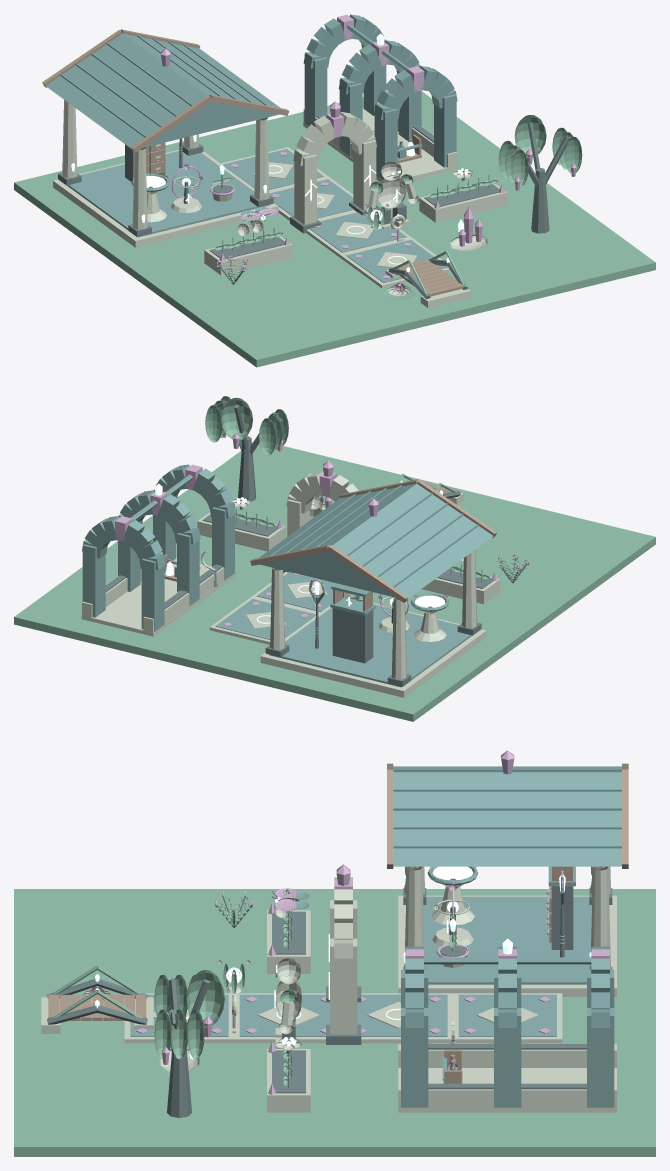
File: runestone-conservatory-starter-scene__124.glb
The picture shows the model from 3 angles, top to bottom: view 1: azimuth 30°, elevation 25°; view 2: azimuth 150°, elevation 25°; view 3: azimuth 270°, elevation 25°; orthographic projection. The views are drawn at different scales.
Visible parts, largest first — view 1: terrain-base, 01-runestone-conservatory-botanical-pavilion/1, 02-runestone-conservatory-growing-house/2, 01-runestone-conservatory-botanical-pavilion/0, 03-runestone-conservatory-runic-arch/0, 13-runestone-conservatory-crystal-willow/1, 01-runestone-conservatory-botanical-pavilion/4, 02-runestone-conservatory-growing-house/0, 13-runestone-conservatory-crystal-willow/0, 08-runestone-conservatory-mosaic-floor/1, 11-runestone-conservatory-garden-golem/0, 05-runestone-conservatory-raised-herb-bed/0 (+17 smaller); view 2: terrain-base, 01-runestone-conservatory-botanical-pavilion/1, 02-runestone-conservatory-growing-house/2, 01-runestone-conservatory-botanical-pavilion/0, 02-runestone-conservatory-growing-house/0, 13-runestone-conservatory-crystal-willow/1, 01-runestone-conservatory-botanical-pavilion/4, 18-runestone-conservatory-seed-cabinet/0, 03-runestone-conservatory-runic-arch/0, 06-runestone-conservatory-mosaic-floor/1, 13-runestone-conservatory-crystal-willow/0, 07-runestone-conservatory-mosaic-floor/1 (+10 smaller); view 3: terrain-base, 01-runestone-conservatory-botanical-pavilion/1, 02-runestone-conservatory-growing-house/2, 02-runestone-conservatory-growing-house/0, 01-runestone-conservatory-botanical-pavilion/0, 13-runestone-conservatory-crystal-willow/1, 03-runestone-conservatory-runic-arch/0, 06-runestone-conservatory-mosaic-floor/1, 08-runestone-conservatory-mosaic-floor/1, 07-runestone-conservatory-mosaic-floor/1, 13-runestone-conservatory-crystal-willow/0, 10-runestone-conservatory-root-bridge/0 (+19 smaller).
Part boxes in pixels (box(x1,y1,x2,y2)): terrain-base: box(14, 91, 655, 367); 01-runestone-conservatory-botanical-pavilion/1: box(46, 33, 280, 237); 02-runestone-conservatory-growing-house/2: box(303, 14, 457, 179); 01-runestone-conservatory-botanical-pavilion/0: box(53, 100, 278, 247); 03-runestone-conservatory-runic-arch/0: box(293, 112, 376, 224); 13-runestone-conservatory-crystal-willow/1: box(498, 115, 582, 186); 01-runestone-conservatory-botanical-pavilion/4: box(42, 29, 289, 152); 02-runestone-conservatory-growing-house/0: box(303, 102, 457, 182); 13-runestone-conservatory-crystal-willow/0: box(509, 122, 570, 233); 08-runestone-conservatory-mosaic-floor/1: box(309, 212, 406, 252); 11-runestone-conservatory-garden-golem/0: box(366, 161, 418, 228); 05-runestone-conservatory-raised-herb-bed/0: box(419, 180, 507, 222); terrain-base: box(14, 442, 655, 721); 01-runestone-conservatory-botanical-pavilion/1: box(259, 483, 493, 687); 02-runestone-conservatory-growing-house/2: box(82, 464, 235, 631); 01-runestone-conservatory-botanical-pavilion/0: box(260, 550, 486, 697); 02-runestone-conservatory-growing-house/0: box(81, 552, 235, 636); 13-runestone-conservatory-crystal-willow/1: box(205, 396, 288, 455); 01-runestone-conservatory-botanical-pavilion/4: box(250, 479, 496, 602); 18-runestone-conservatory-seed-cabinet/0: box(332, 608, 373, 663); 03-runestone-conservatory-runic-arch/0: box(286, 471, 358, 536); 06-runestone-conservatory-mosaic-floor/1: box(215, 599, 315, 639); 13-runestone-conservatory-crystal-willow/0: box(217, 401, 282, 501); 07-runestone-conservatory-mosaic-floor/1: box(257, 572, 335, 611); terrain-base: box(14, 889, 655, 1156); 01-runestone-conservatory-botanical-pavilion/1: box(393, 766, 621, 984); 02-runestone-conservatory-growing-house/2: box(401, 946, 614, 1107); 02-runestone-conservatory-growing-house/0: box(398, 1044, 616, 1112); 01-runestone-conservatory-botanical-pavilion/0: box(398, 866, 616, 996); 13-runestone-conservatory-crystal-willow/1: box(154, 970, 224, 1059); 03-runestone-conservatory-runic-arch/0: box(330, 877, 357, 1034); 06-runestone-conservatory-mosaic-floor/1: box(458, 994, 556, 1036); 08-runestone-conservatory-mosaic-floor/1: box(239, 994, 329, 1036); 07-runestone-conservatory-mosaic-floor/1: box(357, 994, 447, 1036); 13-runestone-conservatory-crystal-willow/0: box(167, 978, 209, 1117); 10-runestone-conservatory-root-bridge/0: box(48, 994, 146, 1020).
Bounding box in the file's own units: 11.16 × 4.25 × 11.74.
